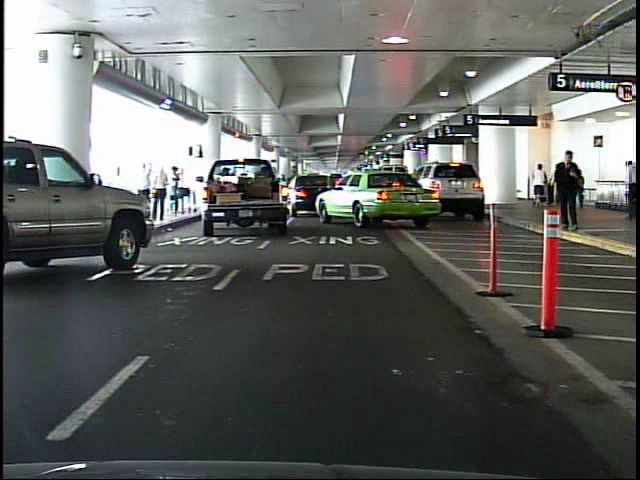person: (554, 143, 587, 237), (532, 160, 547, 208), (581, 168, 582, 212)
